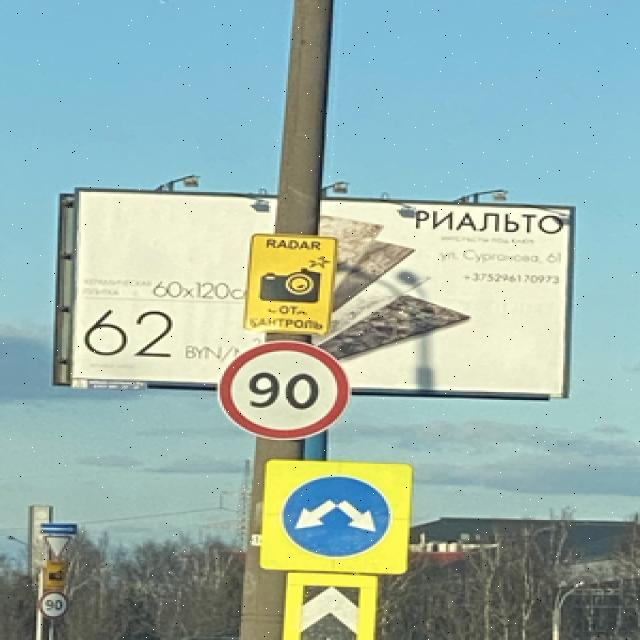Speedlimit: (218, 339, 351, 440)
